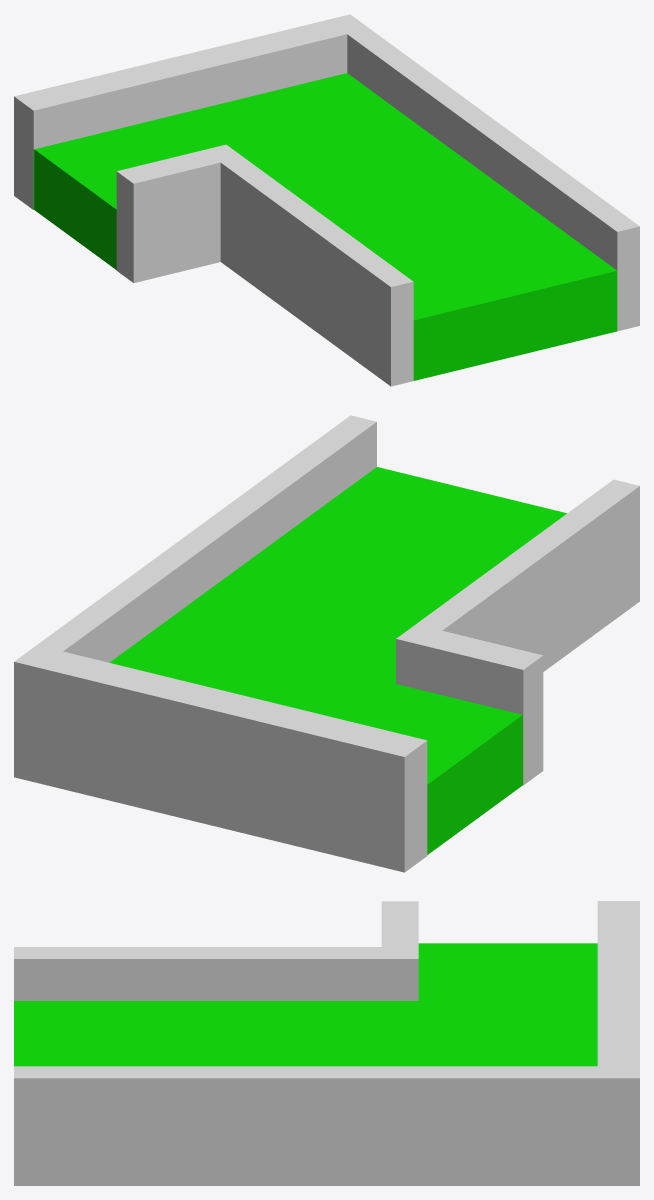
Rendered from FloorWithACurve.dae.
3 renders of one model, top to bottom at view 1: azimuth 30°, elevation 25°; view 2: azimuth 150°, elevation 25°; view 3: azimuth 270°, elevation 25°, orthographic. The views are drawn at different scales.
Parts seen in each view (by area): view 1: FloorWithCurve; view 2: FloorWithCurve; view 3: FloorWithCurve.
Part boxes in pixels (x1,y1,x2,y2): FloorWithCurve: [14, 14, 639, 386]; FloorWithCurve: [14, 415, 639, 872]; FloorWithCurve: [14, 901, 639, 1185].
Size of what is drawn, in the model's own units: 11.49 by 17.14 by 3.25.
